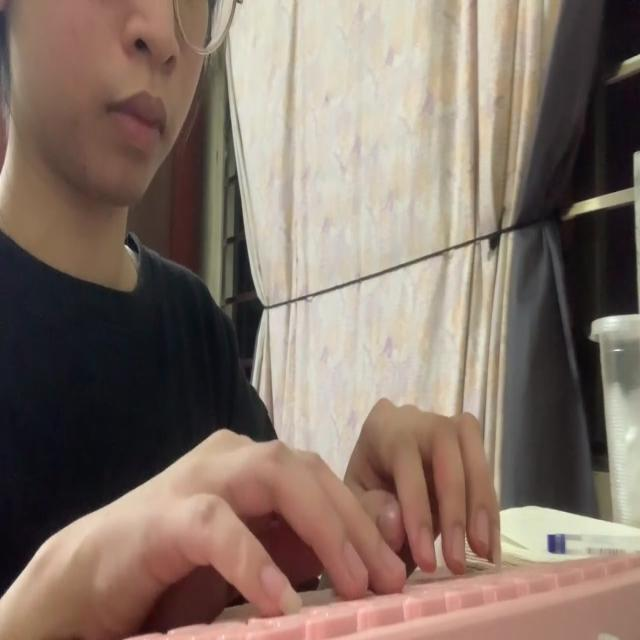student: (0, 0, 505, 637)
